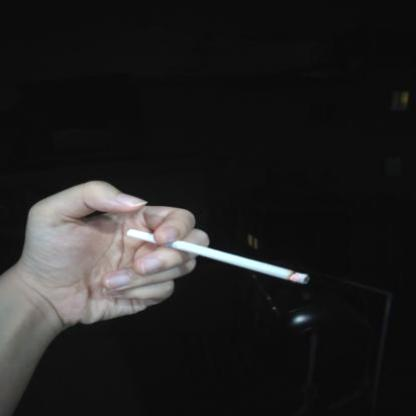cigarette: (120, 228, 315, 286)
